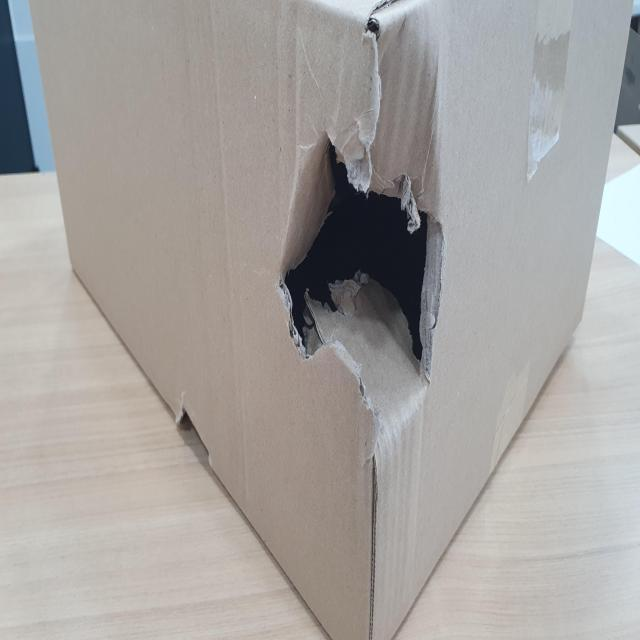damaged: (278, 144, 441, 408), (169, 403, 228, 470)
